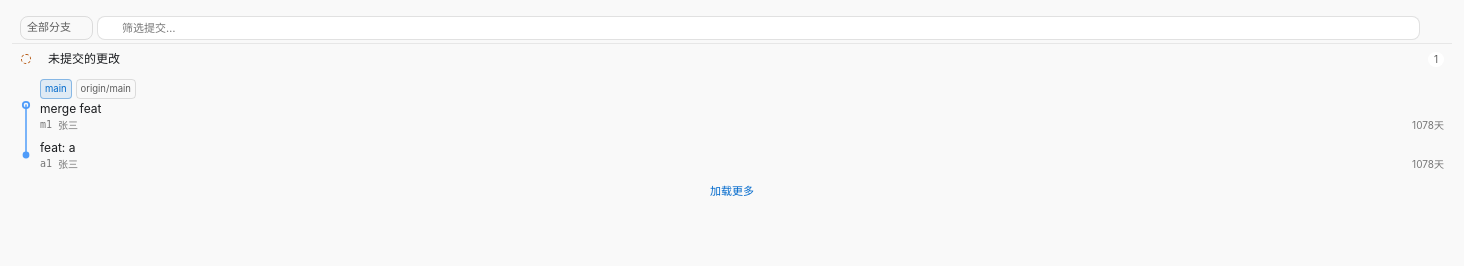
GitGraphPanel › 有下一页时「加载更多」按已加载条数跳页
This screenshot has width=1464, height=266.
Click the button "加载更多": coordinates (732, 191) left=12, top=175, right=1452, bottom=208
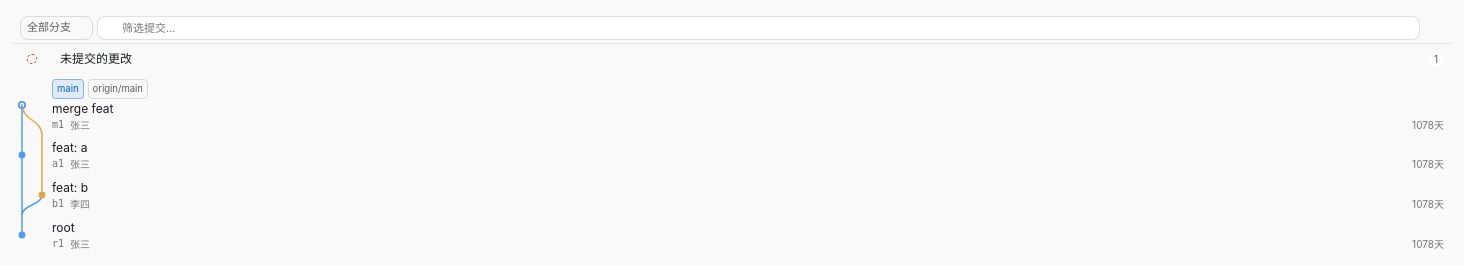
Expected: the text "加载更多" is gone
